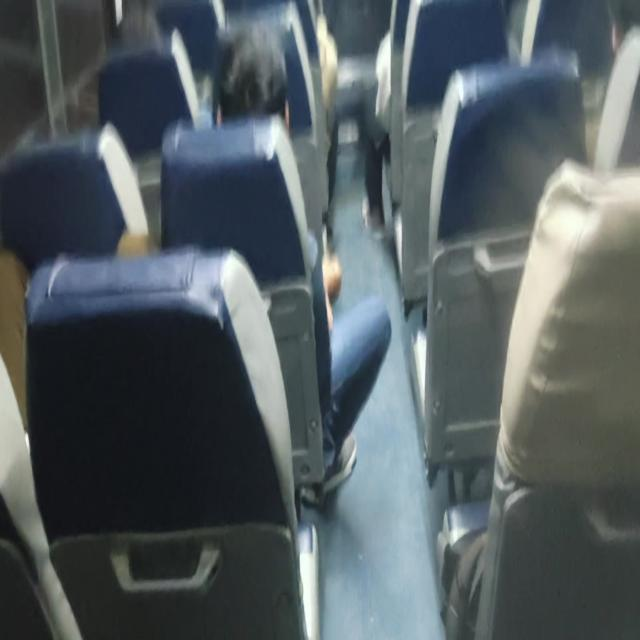person: (437, 1, 639, 637), (212, 22, 392, 502)
